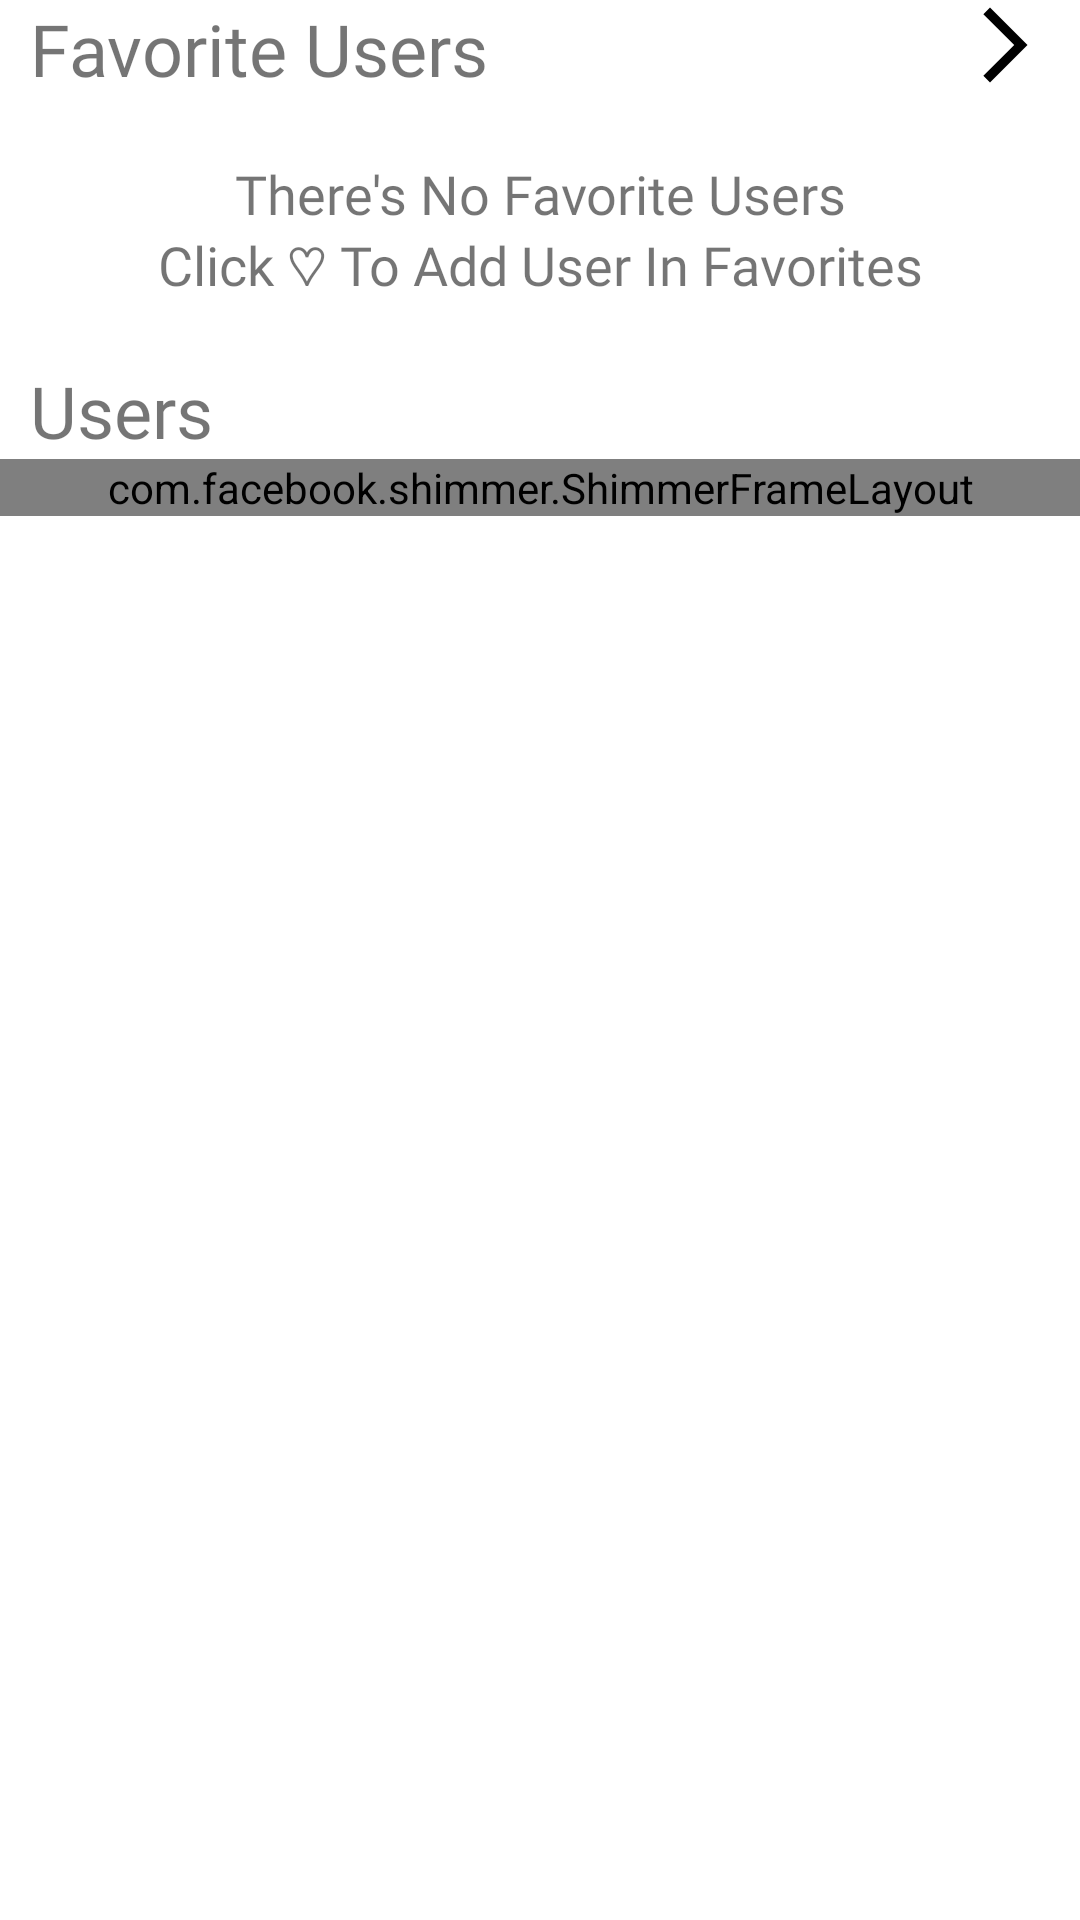

Named icons in this screenshot (1080 x 1920) and their bounding boxes, bbox=(x1, y1, x2, y2):
arrow forward: bbox=(983, 7, 1028, 83)
